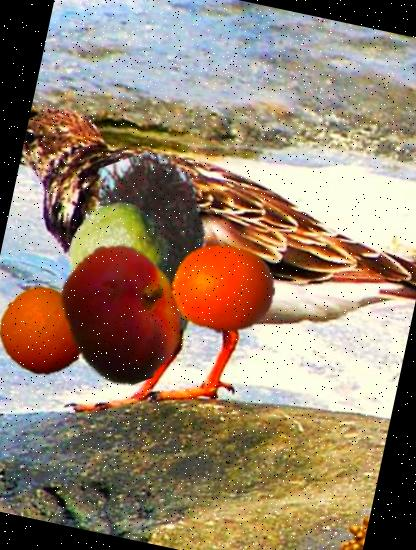Grapefruit: (162, 229, 284, 351)
Limes: (58, 194, 177, 313)
Nectarine: (39, 230, 207, 398)
Orange: (0, 278, 97, 385)
Rambutan: (60, 144, 226, 310)
